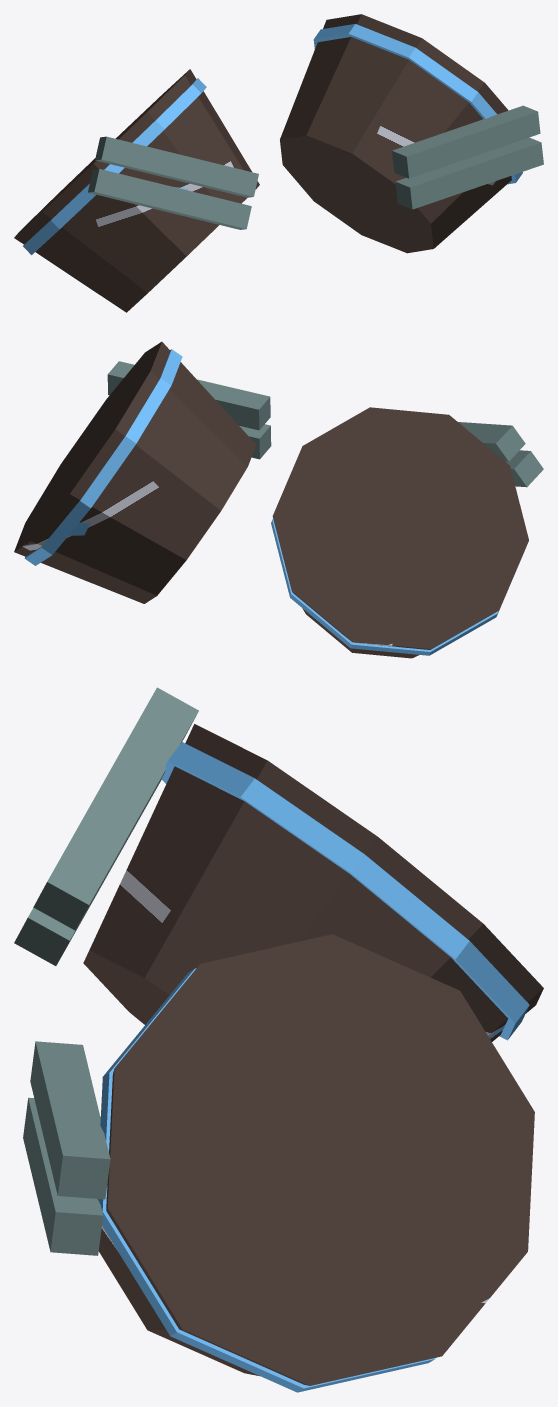
Rendered from conductor_cuffs_3.glb.
3 renders of one model, top to bottom at view 1: azimuth 30°, elevation 25°; view 2: azimuth 150°, elevation 25°; view 3: azimuth 270°, elevation 25°, orthographic. The views are drawn at different scales.
Parts seen in each view (by area): view 1: wear_conductor_cuffs_3_01_display, wear_conductor_cuffs_3_00_display, wear_conductor_cuffs_3_05_display, wear_conductor_cuffs_3_04_display, wear_conductor_cuffs_3_03_display, wear_conductor_cuffs_3_02_display; view 2: wear_conductor_cuffs_3_00_display, wear_conductor_cuffs_3_01_display, wear_conductor_cuffs_3_05_display, wear_conductor_cuffs_3_03_display, wear_conductor_cuffs_3_02_display, wear_conductor_cuffs_3_04_display; view 3: wear_conductor_cuffs_3_01_display, wear_conductor_cuffs_3_00_display, wear_conductor_cuffs_3_03_display, wear_conductor_cuffs_3_05_display, wear_conductor_cuffs_3_04_display, wear_conductor_cuffs_3_02_display.
Part boxes in pixels (left/top/right/bottom): wear_conductor_cuffs_3_01_display: left=280, top=14, right=522, bottom=253; wear_conductor_cuffs_3_00_display: left=14, top=69, right=259, bottom=312; wear_conductor_cuffs_3_05_display: left=392, top=105, right=540, bottom=178; wear_conductor_cuffs_3_04_display: left=395, top=137, right=543, bottom=209; wear_conductor_cuffs_3_03_display: left=95, top=136, right=258, bottom=197; wear_conductor_cuffs_3_02_display: left=88, top=169, right=251, bottom=229; wear_conductor_cuffs_3_00_display: left=271, top=407, right=528, bottom=658; wear_conductor_cuffs_3_01_display: left=14, top=341, right=256, bottom=603; wear_conductor_cuffs_3_05_display: left=107, top=361, right=270, bottom=430; wear_conductor_cuffs_3_03_display: left=458, top=422, right=525, bottom=461; wear_conductor_cuffs_3_02_display: left=506, top=450, right=543, bottom=487; wear_conductor_cuffs_3_04_display: left=239, top=424, right=271, bottom=459; wear_conductor_cuffs_3_01_display: left=97, top=934, right=534, bottom=1392; wear_conductor_cuffs_3_00_display: left=83, top=724, right=543, bottom=1041; wear_conductor_cuffs_3_03_display: left=33, top=687, right=198, bottom=930; wear_conductor_cuffs_3_05_display: left=30, top=1041, right=110, bottom=1199; wear_conductor_cuffs_3_04_display: left=23, top=1097, right=103, bottom=1255; wear_conductor_cuffs_3_02_display: left=14, top=777, right=162, bottom=965.
Bounding box in the file's own units: 1.15 × 0.5291 × 0.6058.
Materials: 4 (2 with a texture image).
